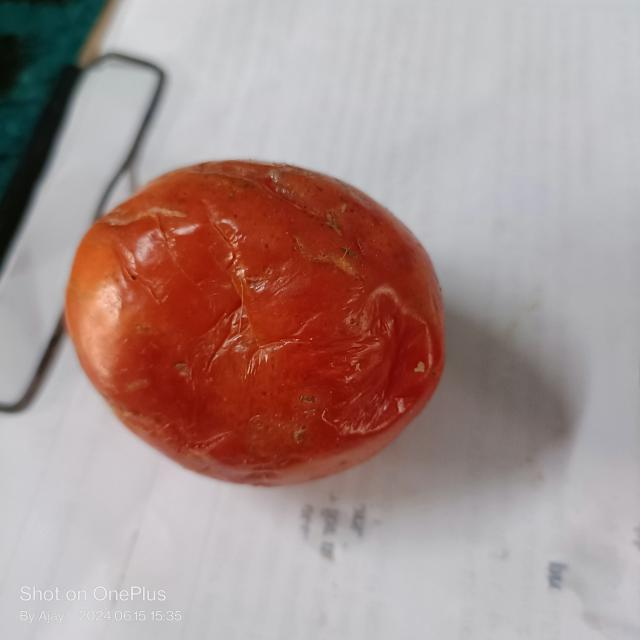Botrytis: (298, 388, 320, 409), (338, 245, 357, 262)
